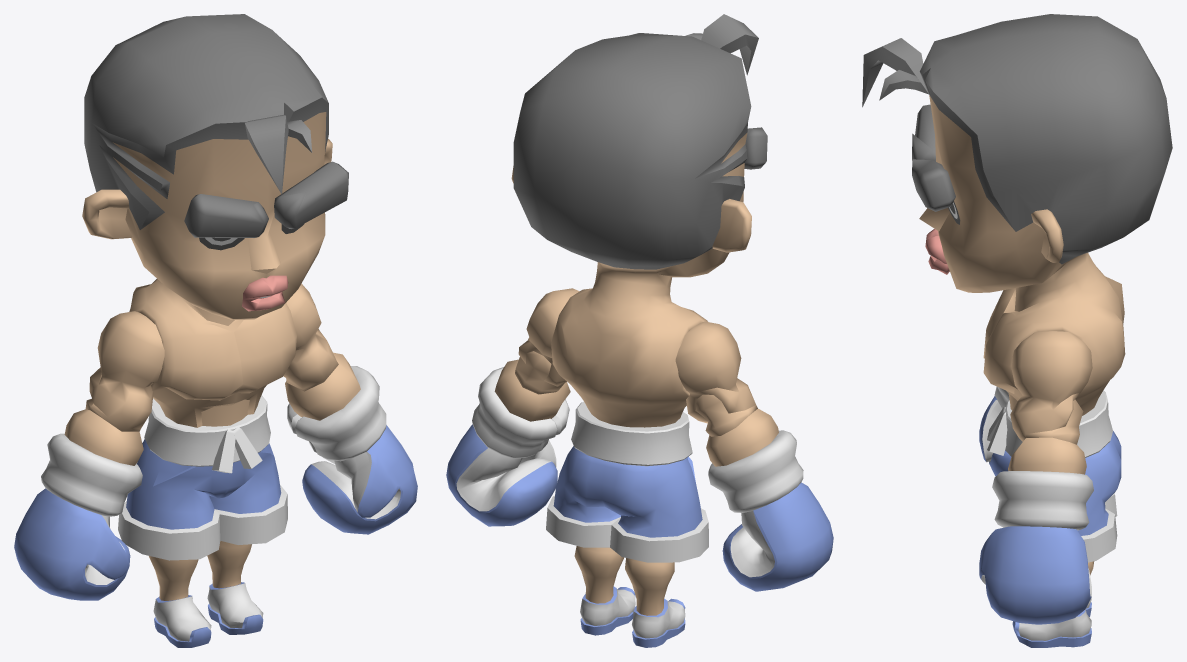
The model's file is CharacterMesh.fbx.
The picture shows the model from 3 angles, left to right: view 1: azimuth 30°, elevation 25°; view 2: azimuth 150°, elevation 25°; view 3: azimuth 270°, elevation 25°; orthographic projection. The views are drawn at different scales.
Visible parts, largest first — view 1: character1; view 2: character1; view 3: character1.
Boxes of the visible parts, x1,y1,x2,y2 form: character1: (14,14,417,647); character1: (446,14,833,647); character1: (862,14,1172,647).
Size of the model in its own units: 125 by 187 by 88.3.
